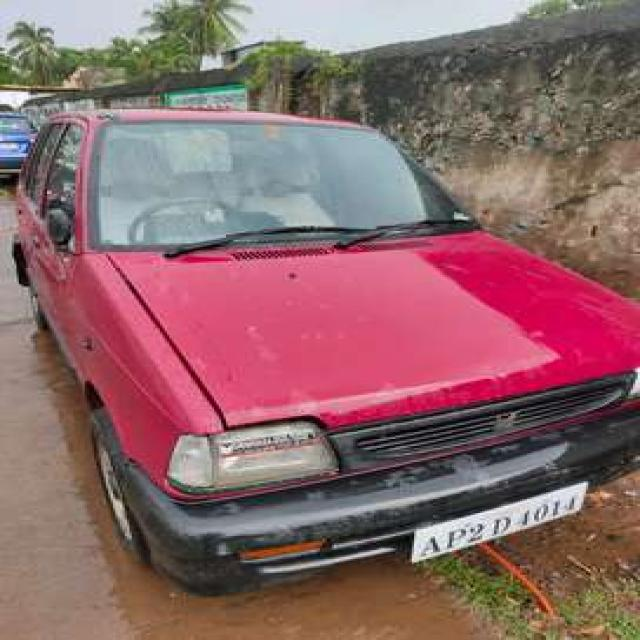plate: (410, 482, 590, 562)
